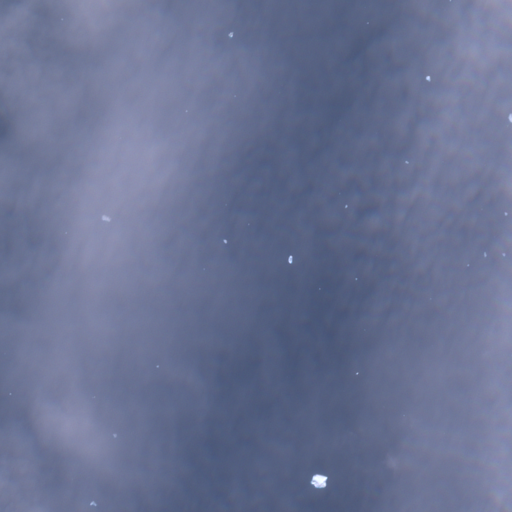Iceberg: (310, 474, 327, 487), (102, 215, 109, 221), (288, 255, 292, 263), (228, 32, 233, 37), (508, 113, 511, 121), (90, 501, 96, 505), (426, 76, 430, 81), (223, 239, 226, 243), (504, 212, 507, 215), (113, 434, 116, 437), (484, 252, 486, 256), (405, 161, 408, 163), (345, 204, 347, 207), (502, 253, 504, 255), (156, 365, 158, 367), (356, 372, 358, 374), (61, 18, 62, 19), (367, 22, 368, 23), (234, 95, 235, 96), (186, 110, 187, 111), (248, 223, 249, 224), (467, 264, 468, 265), (203, 268, 204, 269), (355, 278, 356, 279), (319, 288, 320, 289), (9, 393, 10, 394)
